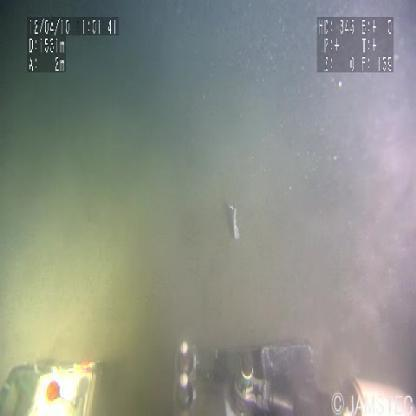Rác: (228, 198, 244, 244)
